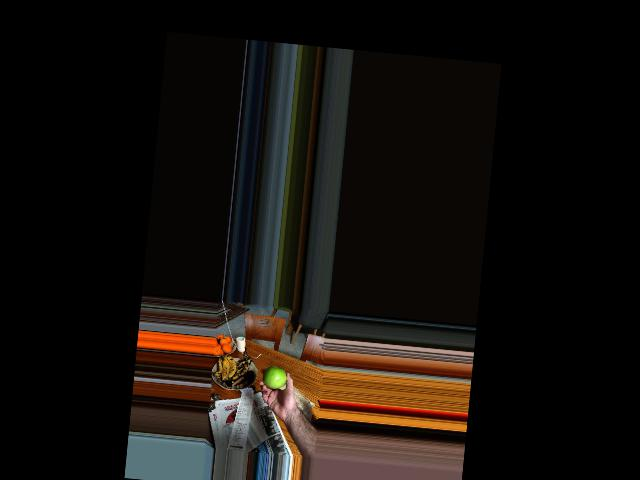apple: (261, 363, 290, 392)
